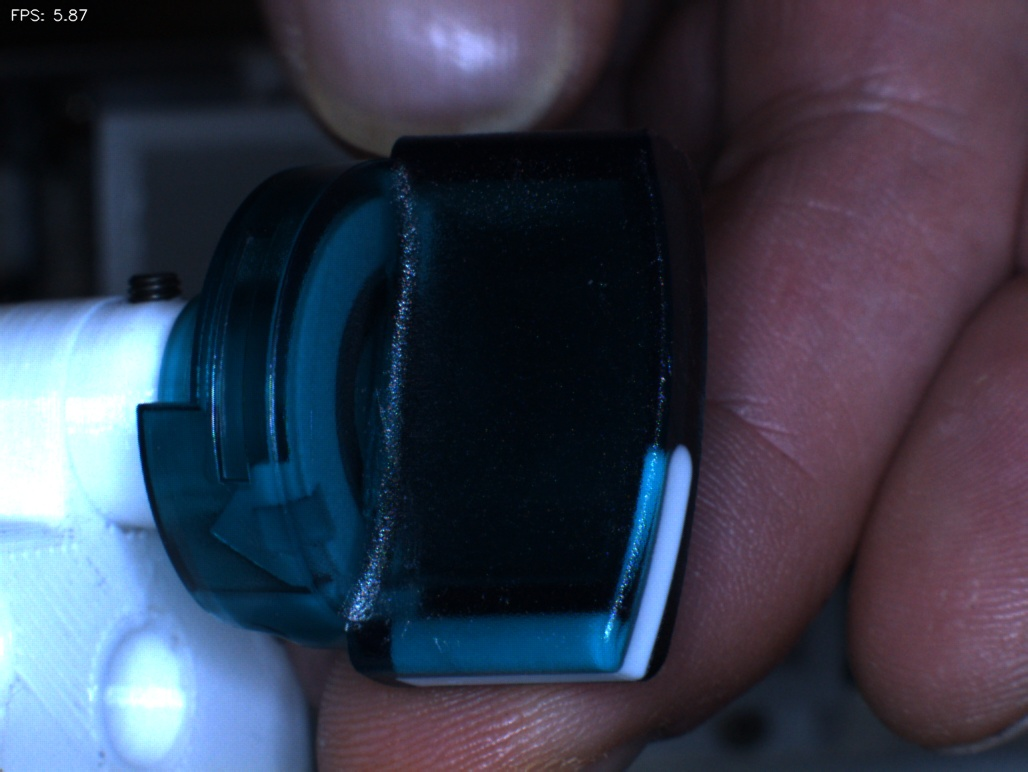Givrage: (379, 497, 437, 642)
